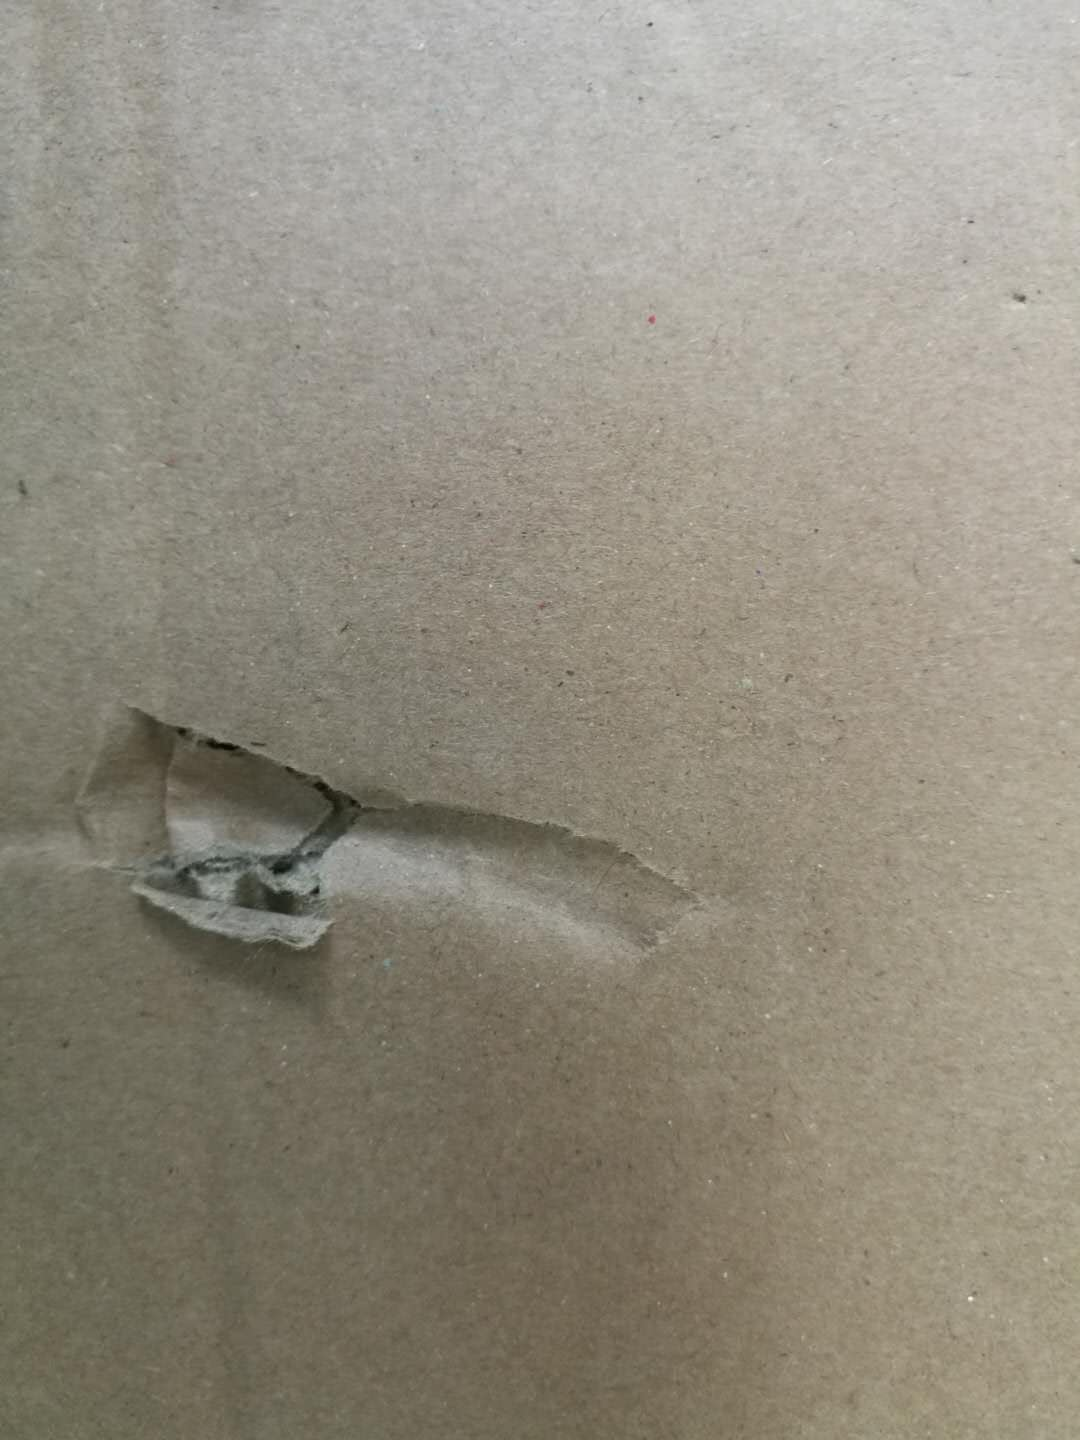defect: (5, 642, 788, 1042)
